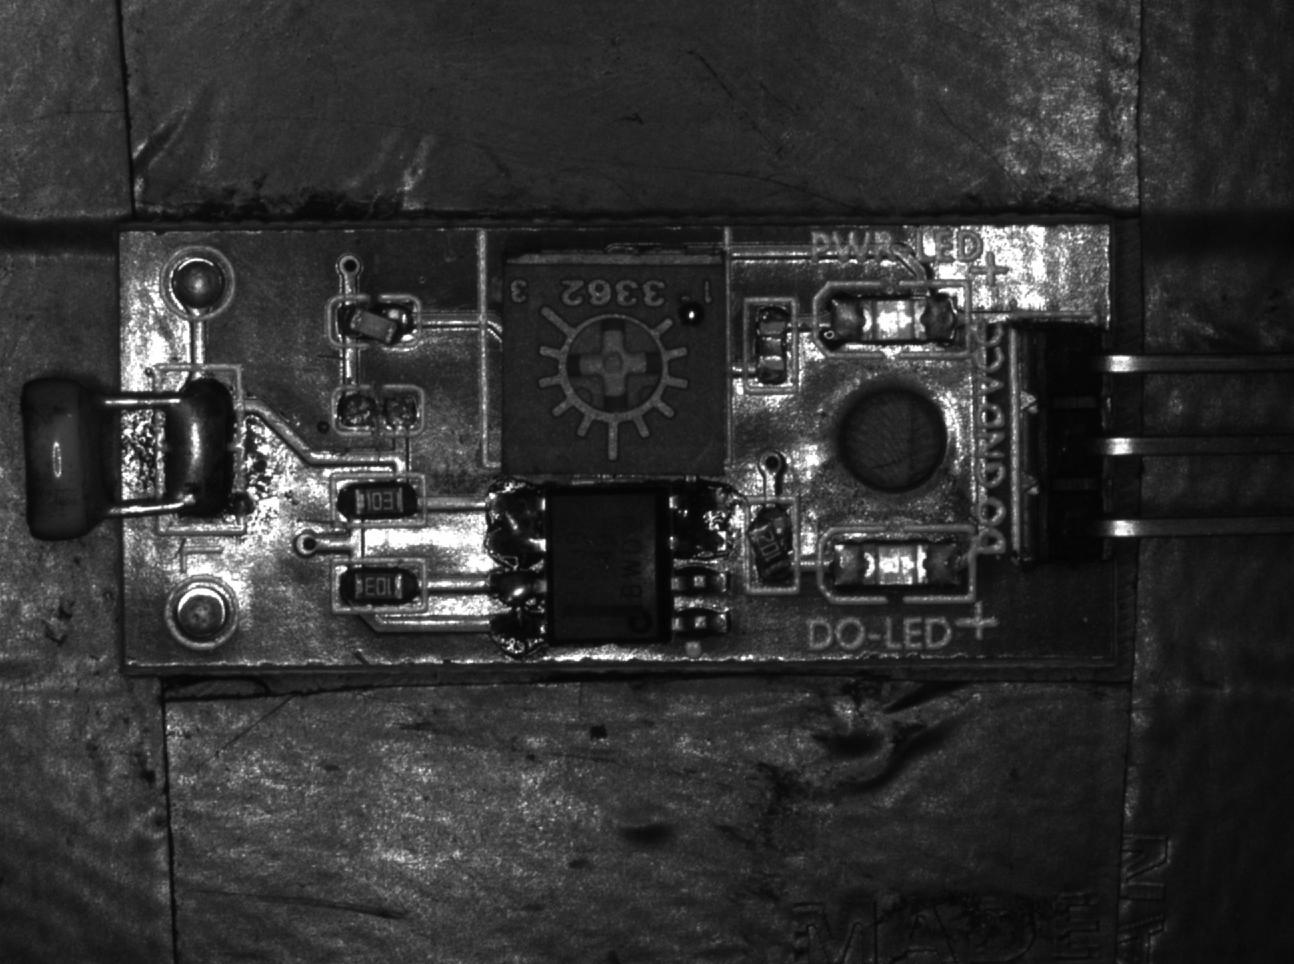bridge: (156, 363, 245, 529), (478, 481, 549, 568), (663, 479, 731, 556)
lifted: (331, 294, 423, 351), (745, 500, 801, 594)
miss: (329, 383, 427, 436), (747, 297, 790, 390)
ok: (330, 559, 429, 613), (328, 473, 428, 526)
